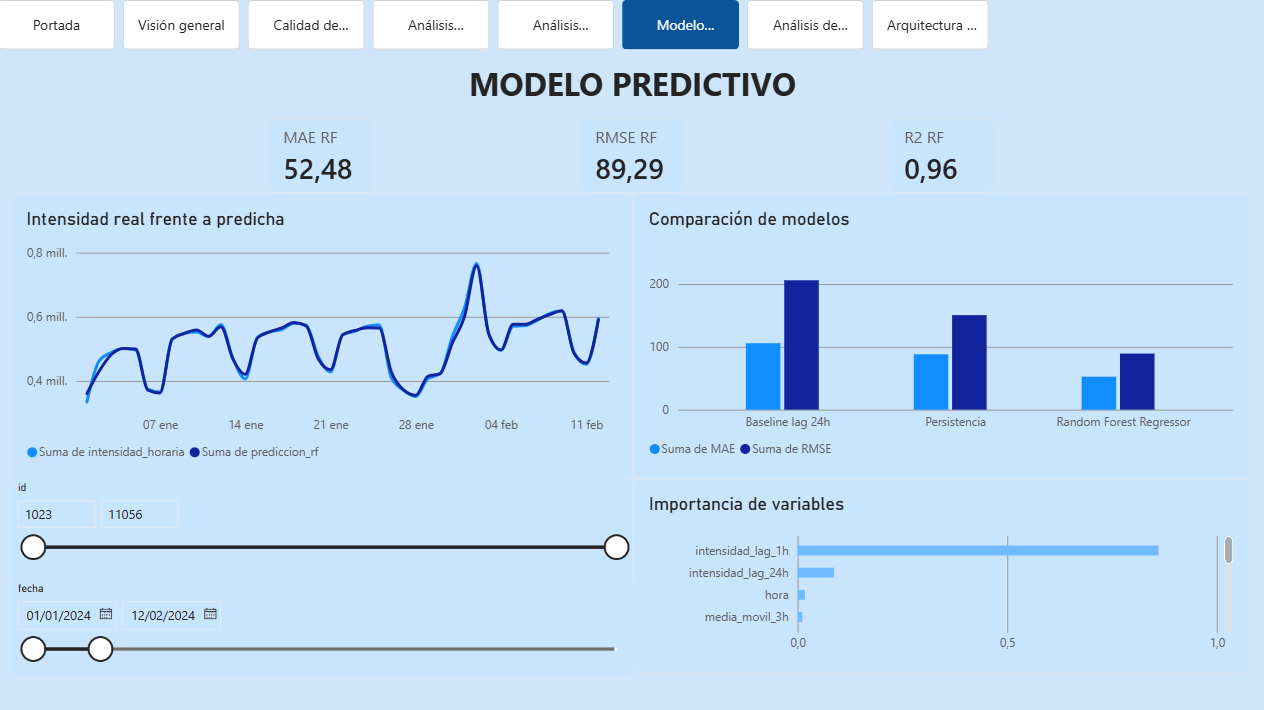

The page's visual inventory and layout, read from the dashboard file:
{"tool":"powerbi","page":{"name":"Modelo predictivo","canvas":[1280,720],"ordinal":5},"visuals":[{"type":"lineChart","title":"Intensidad real frente a predicha","fields":{"Category":["predicciones_powerbi.fecha_hora.Variación.Jerarquía de fechas.Año","predicciones_powerbi.fecha_hora.Variación.Jerarquía de fechas.Trimestre","predicciones_powerbi.fecha_hora.Variación.Jerarquía de fechas.Mes","predicciones_powerbi.fecha_hora.Variación.Jerarquía de fechas.Día"],"Y":["Sum(predicciones_powerbi.intensidad_horaria)","Sum(predicciones_powerbi.prediccion_rf)"]},"box":[12,194.6,628.3,292],"z":0},{"type":"slicer","fields":{"Values":["predicciones_powerbi.id"]},"box":[12,486.6,628.3,100.7],"z":1000},{"type":"cardVisual","fields":{"Data":["metricas_powerbi.MAE Random Forest"]},"box":[271.5,119.5,109.3,75.1],"z":2000},{"type":"cardVisual","fields":{"Data":["metricas_powerbi.RMSE Random Forest"]},"box":[585.7,119.5,109.3,75.1],"z":3000},{"type":"cardVisual","fields":{"Data":["metricas_powerbi.R2 Random Forest"]},"box":[898.1,119.5,109.3,75.1],"z":4000},{"type":"clusteredBarChart","title":"Importancia de variables","fields":{"Category":["importancia_variables_powerbi.variable"],"Y":["Sum(importancia_variables_powerbi.importancia)"]},"box":[640.3,483.2,623.2,196.4],"z":5000},{"type":"pageNavigator","box":[0,0,1000,50],"z":6000},{"type":"textbox","box":[0,61.5,1280.6,46.1],"z":7000},{"type":"slicer","fields":{"Values":["predicciones_powerbi.fecha"]},"box":[12,587.4,628.3,92.2],"z":8000},{"type":"clusteredColumnChart","title":"Comparación de modelos","fields":{"Category":["metricas_powerbi.modelo"],"Y":["Sum(metricas_powerbi.MAE)","Sum(metricas_powerbi.RMSE)"]},"box":[640.3,194.6,623.2,288.6],"z":9000}]}

Visuals, with their boxes in screenshot pixels (x1, y1, x2, y2), scaled from the page's 1280x720 canvas onto the 1264x710 screenshot:
"Intensidad real frente a predicha" lineChart: left=12, top=192, right=632, bottom=480
slicer - predicciones_powerbi.id: left=12, top=480, right=632, bottom=579
cardVisual - metricas_powerbi.MAE Random Forest: left=268, top=118, right=376, bottom=192
cardVisual - metricas_powerbi.RMSE Random Forest: left=578, top=118, right=686, bottom=192
cardVisual - metricas_powerbi.R2 Random Forest: left=887, top=118, right=995, bottom=192
"Importancia de variables" clusteredBarChart: left=632, top=476, right=1248, bottom=670
pageNavigator: left=0, top=0, right=988, bottom=49
textbox: left=0, top=61, right=1263, bottom=106
slicer - predicciones_powerbi.fecha: left=12, top=579, right=632, bottom=670
"Comparación de modelos" clusteredColumnChart: left=632, top=192, right=1248, bottom=476
